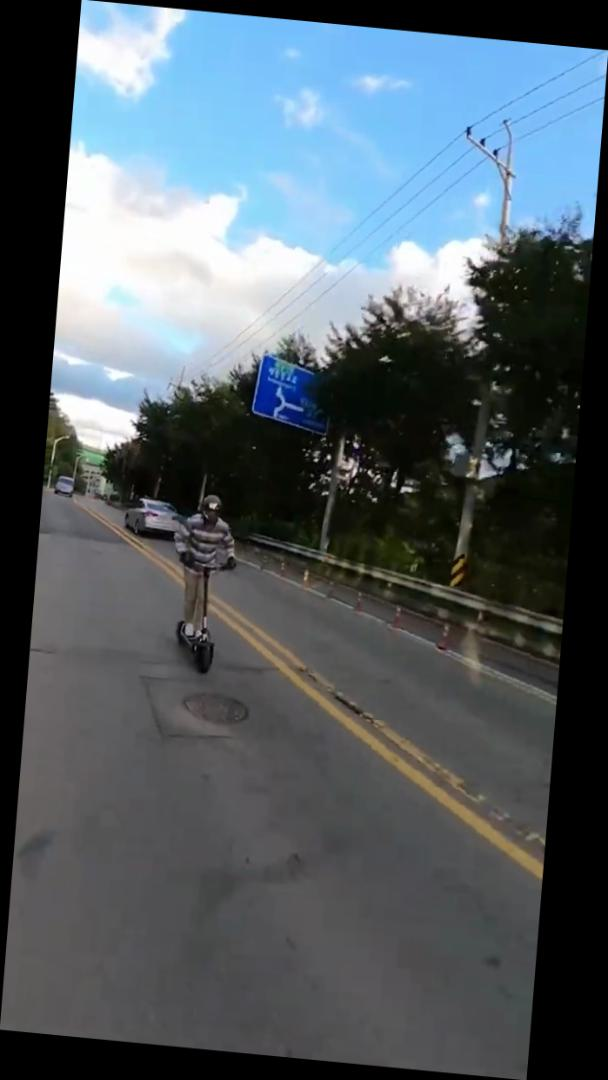helmet: (166, 488, 245, 680)
